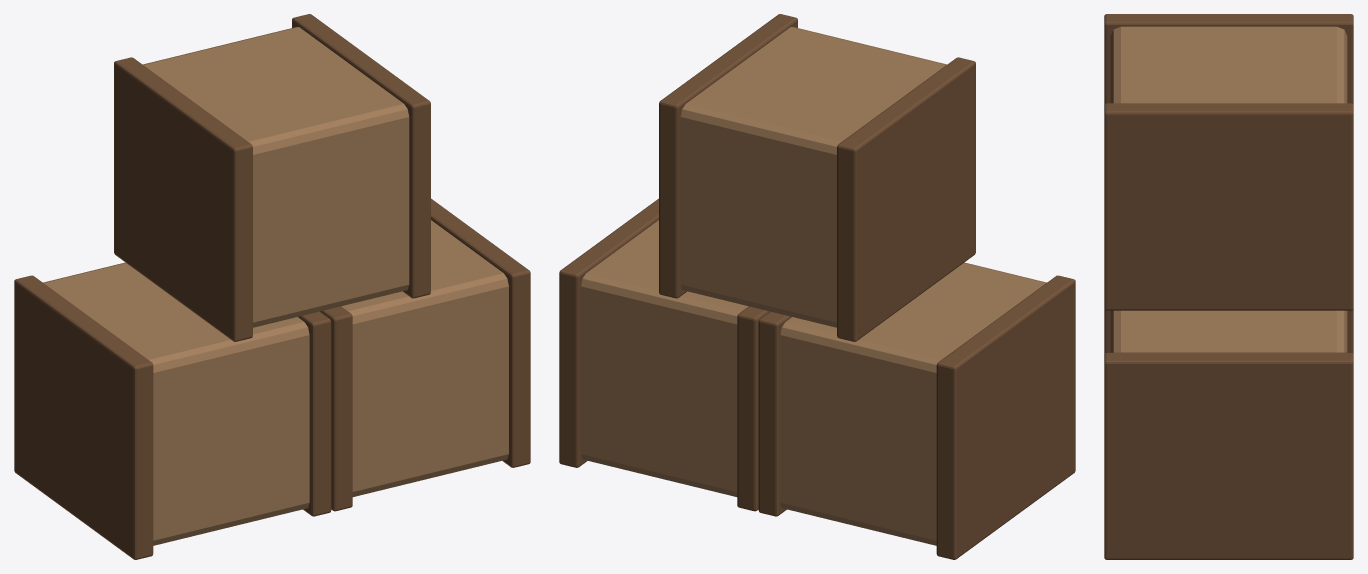
Rendered from prop-crates.glb.
3 views of the same model, side by side, from view 1: azimuth 30°, elevation 25°; view 2: azimuth 150°, elevation 25°; view 3: azimuth 270°, elevation 25° (orthographic). The views are drawn at different scales.
Parts seen in each view (by area): view 1: Aged oak, Dark beams; view 2: Aged oak, Dark beams; view 3: Dark beams, Aged oak.
Boxes of the visible parts, left/top/right/bottom form: Aged oak: left=43, top=27, right=508, bottom=545; Dark beams: left=14, top=14, right=530, bottom=559; Aged oak: left=581, top=27, right=1046, bottom=545; Dark beams: left=559, top=14, right=1075, bottom=559; Dark beams: left=1104, top=14, right=1353, bottom=559; Aged oak: left=1110, top=26, right=1347, bottom=352.
Size of the model in its own units: 1.12 by 1.04 by 0.59.
